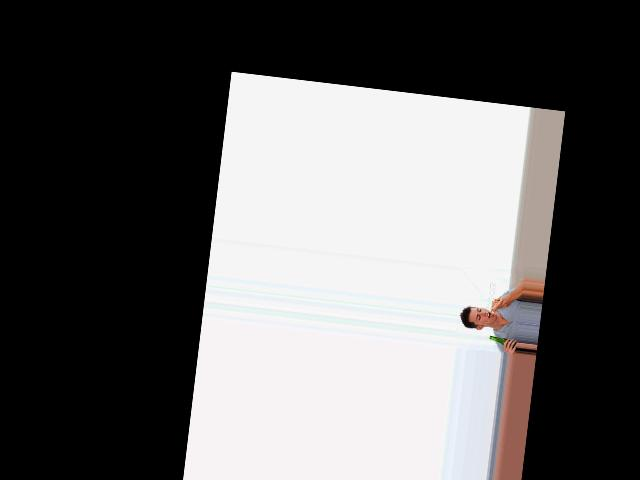beer: (488, 335, 517, 350)
